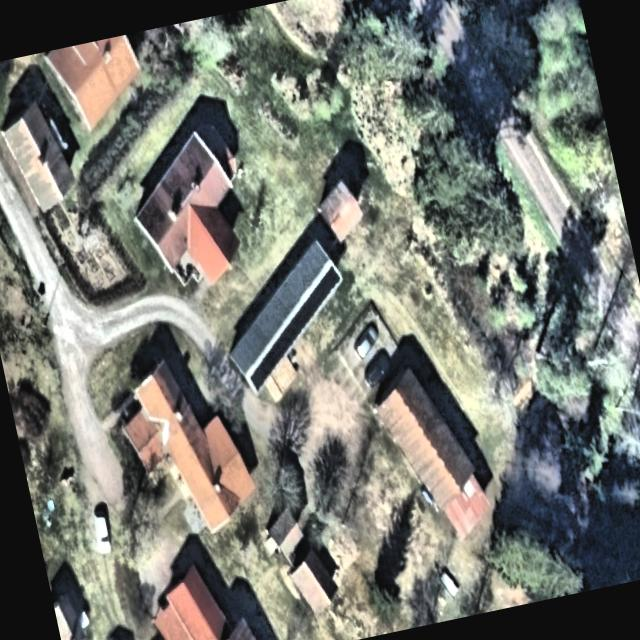roof_pv: (312, 262, 346, 305), (272, 320, 299, 360), (286, 303, 314, 341), (300, 286, 328, 322), (246, 359, 274, 394), (258, 342, 284, 375)
